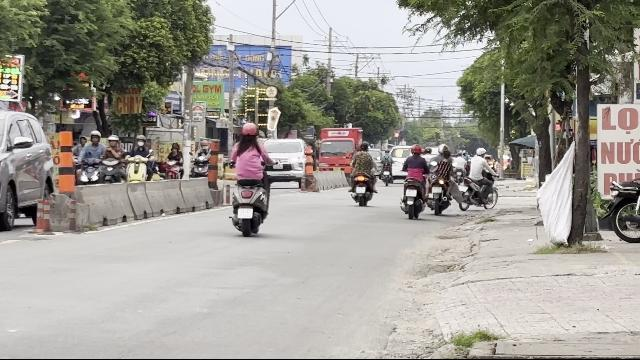helmet: (240, 122, 258, 138)
licenseplate: (238, 208, 252, 218)
motorcyclist: (226, 121, 272, 235)
